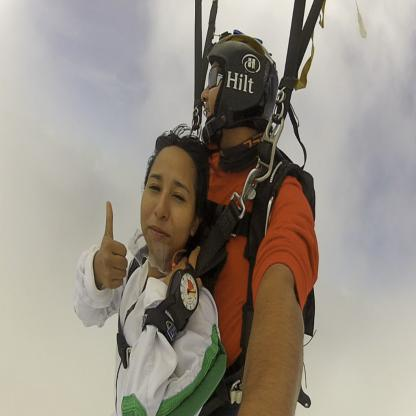Helmet: (195, 30, 280, 160)
